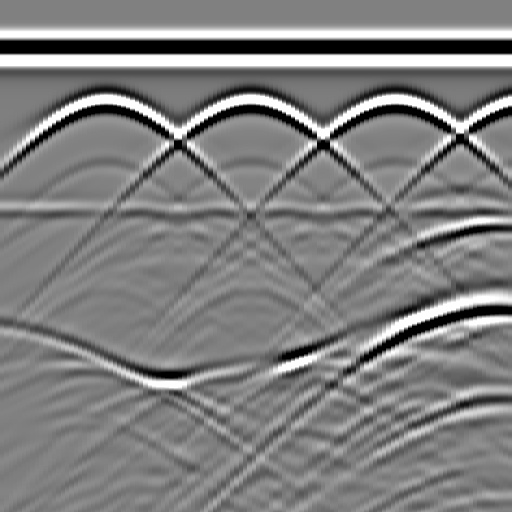grout_surface: (1, 197, 512, 227)
rebar: (84, 83, 124, 123), (228, 83, 268, 123), (372, 83, 412, 123), (502, 83, 512, 123)
rock_surface: (1, 309, 511, 383)
water_void: (464, 198, 512, 238)
